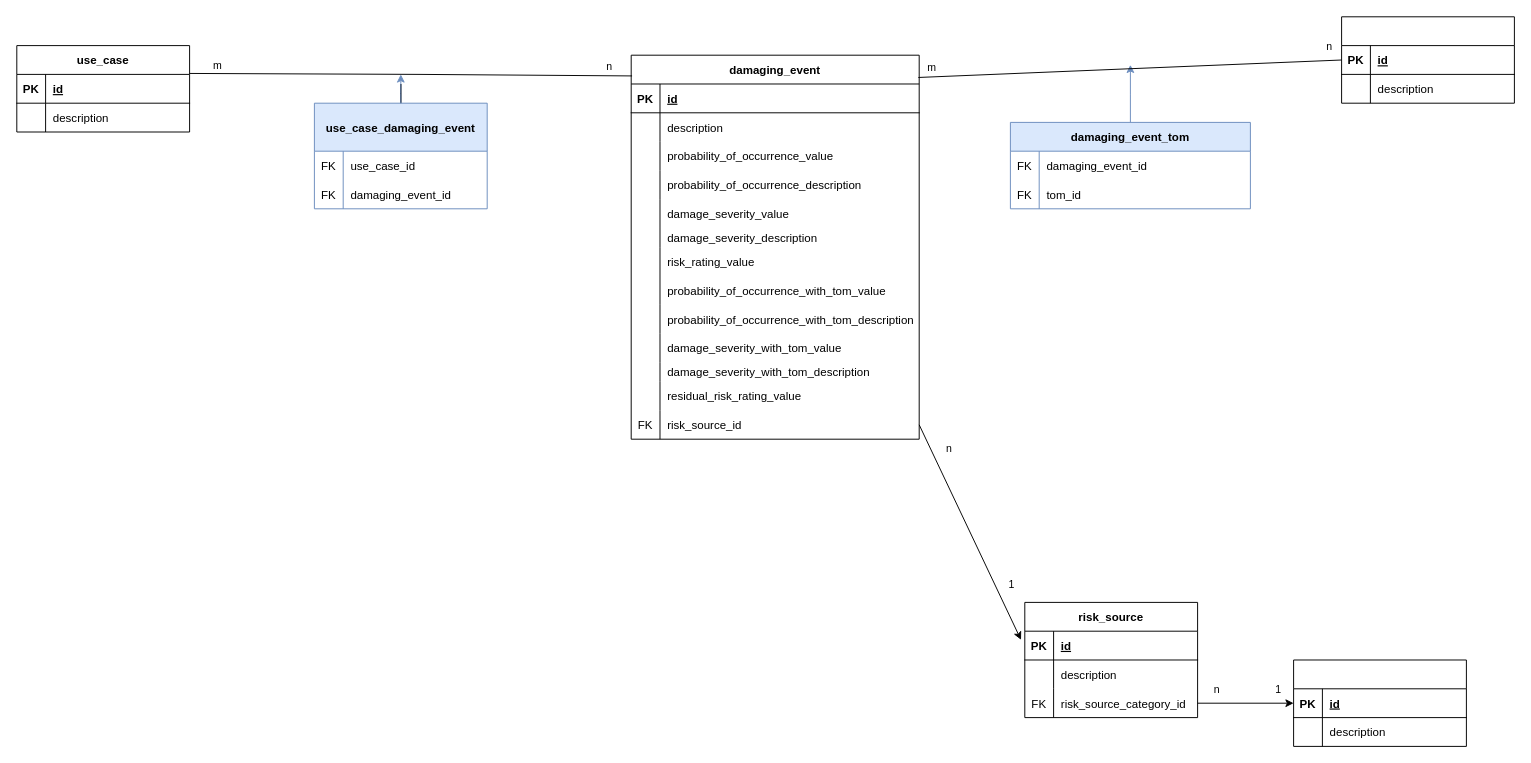
The diagram is 1531 pixels wide and 763 high, and some of its shapes have lost their labels. The box of each missing label's shape, as (x1, y1, x2, y2) in pixels:
risk_source_category: (1293, 659, 1466, 746)
tom: (1341, 16, 1514, 103)
